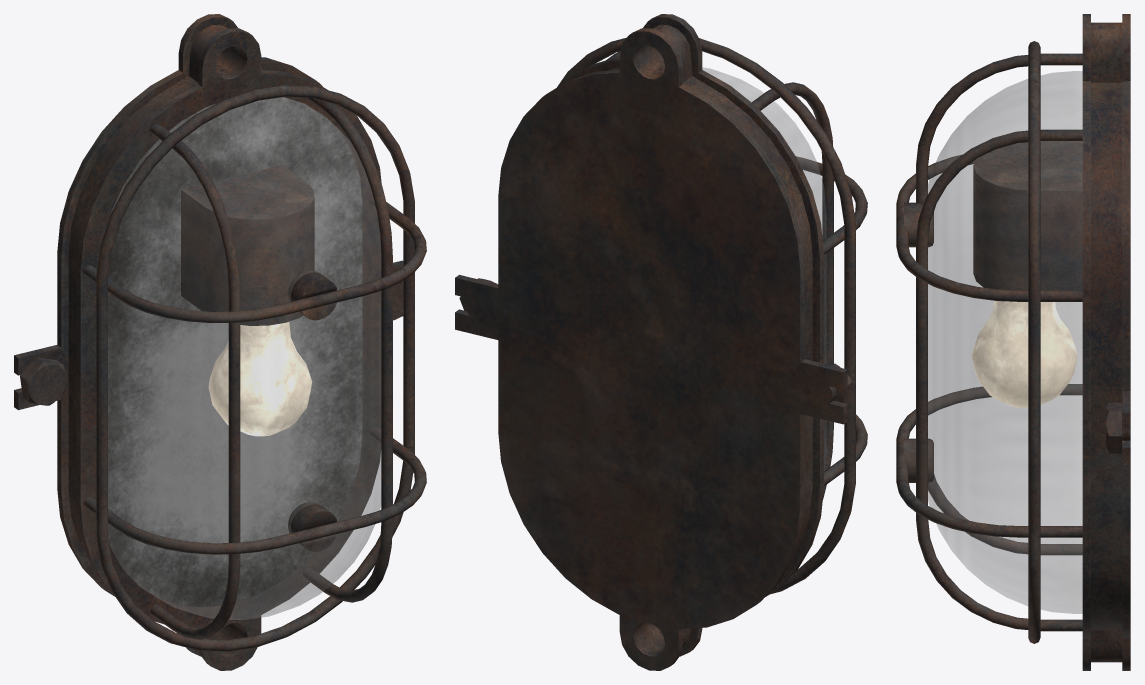
File: industrial_wall_lamp_2k.gltf
The picture shows the model from 3 angles, left to right: view 1: azimuth 30°, elevation 25°; view 2: azimuth 150°, elevation 25°; view 3: azimuth 270°, elevation 25°; orthographic projection.
Visible parts, largest first — view 1: industrial_wall_lamp; view 2: industrial_wall_lamp; view 3: industrial_wall_lamp.
Part boxes in pixels (box(x1,y1,x2,y2)): industrial_wall_lamp: box(14, 14, 426, 670); industrial_wall_lamp: box(455, 14, 867, 670); industrial_wall_lamp: box(896, 14, 1130, 670).
Size of the model in its own units: 0.2735 by 0.4299 by 0.1404.
Materials: 2 (2 with a texture image).
